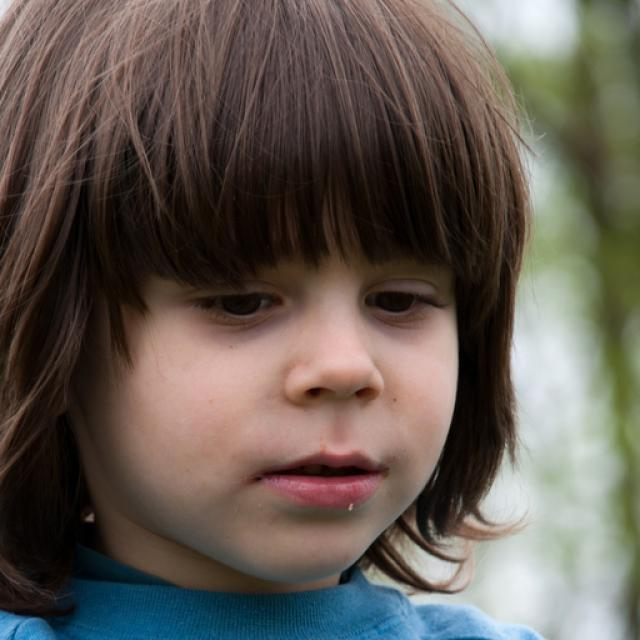sad: (105, 168, 463, 580)
